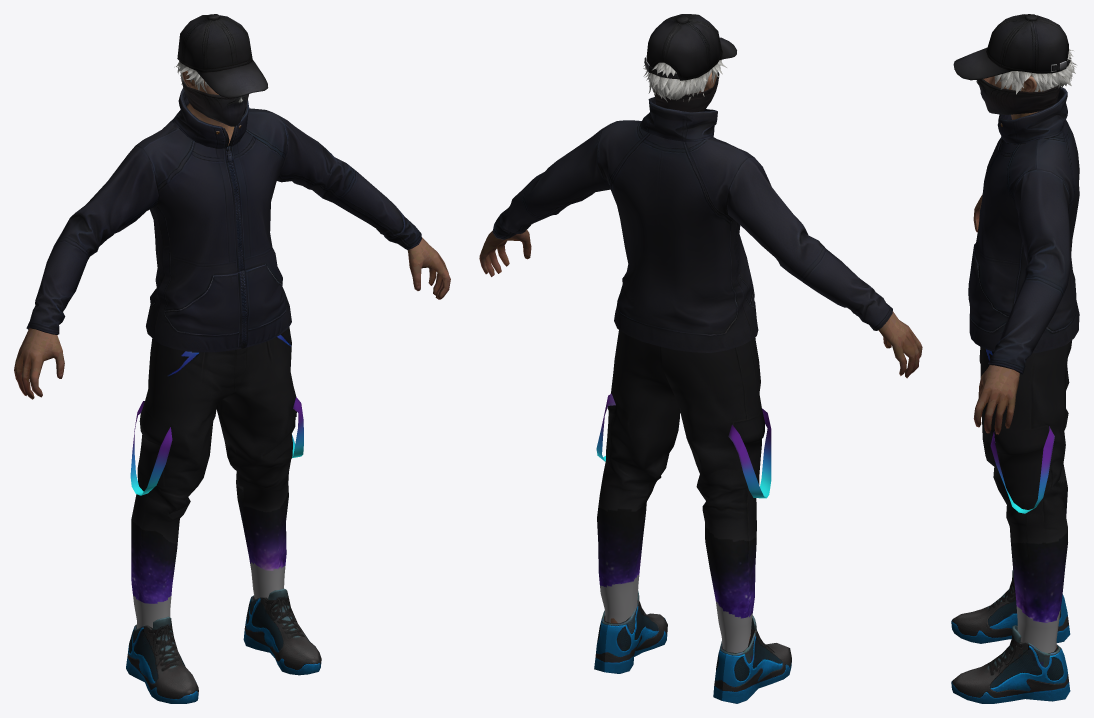
Rendered from kaysen.glb.
3 views of the same model, side by side, from view 1: azimuth 30°, elevation 25°; view 2: azimuth 150°, elevation 25°; view 3: azimuth 270°, elevation 25° (orthographic).
Visible parts, largest first — view 1: kaysen; view 2: kaysen; view 3: kaysen.
Boxes of the visible parts, bbox=[...] form: kaysen: bbox=[14, 14, 450, 703]; kaysen: bbox=[479, 14, 922, 703]; kaysen: bbox=[951, 14, 1079, 703].
Size of the model in its own units: 0.6319 by 0.9173 by 0.1644.
Materials: 9 (9 with a texture image).
